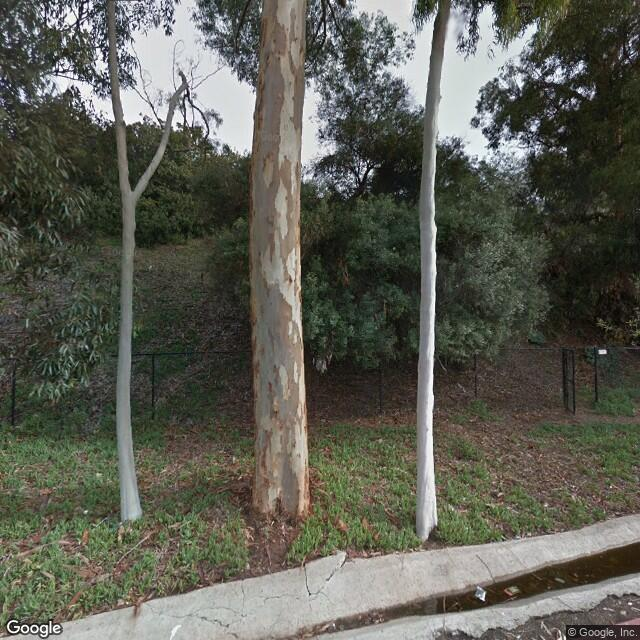litter: (472, 583, 487, 602), (503, 585, 523, 598), (81, 510, 91, 518), (624, 602, 637, 608), (619, 610, 631, 615)
